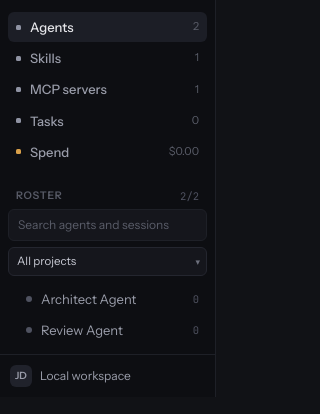
Test: Sidebar › filters the roster list and reports the match count
Type "review" into the field labelled "Search agents and sessions" at (108, 225), box x1=8 y1=209 x2=207 y2=241
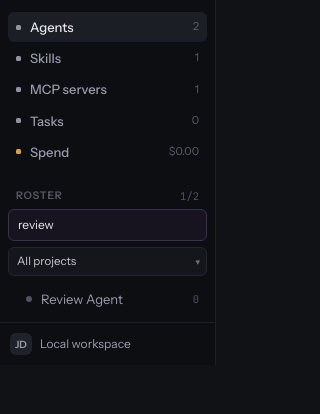
Expected: the button "Architect Agent" is gone
Expected: the text "1/2" is shown, x1=180 y1=189 x2=199 y2=203
